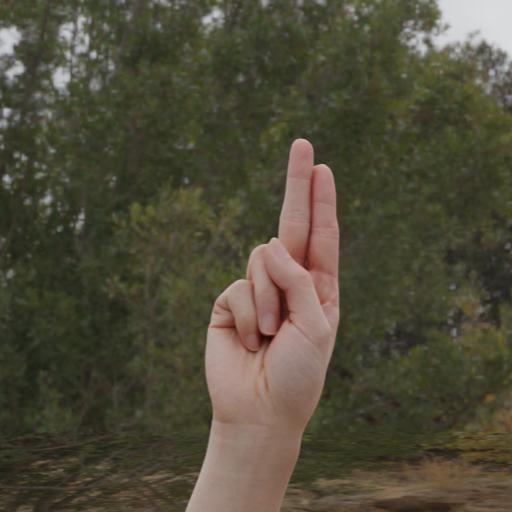U: (192, 131, 354, 512)
